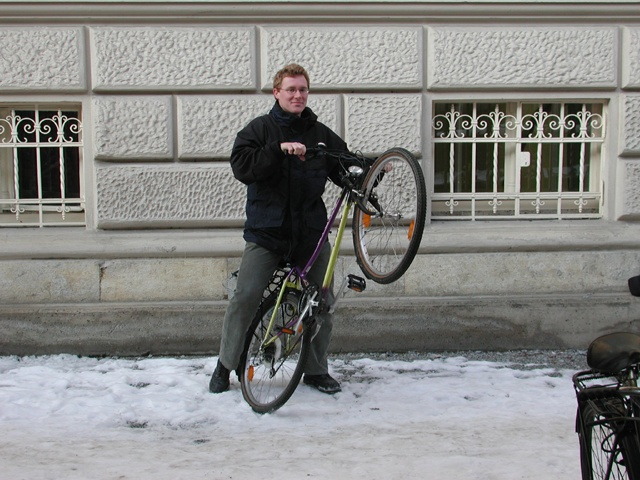person: (223, 65, 346, 396)
